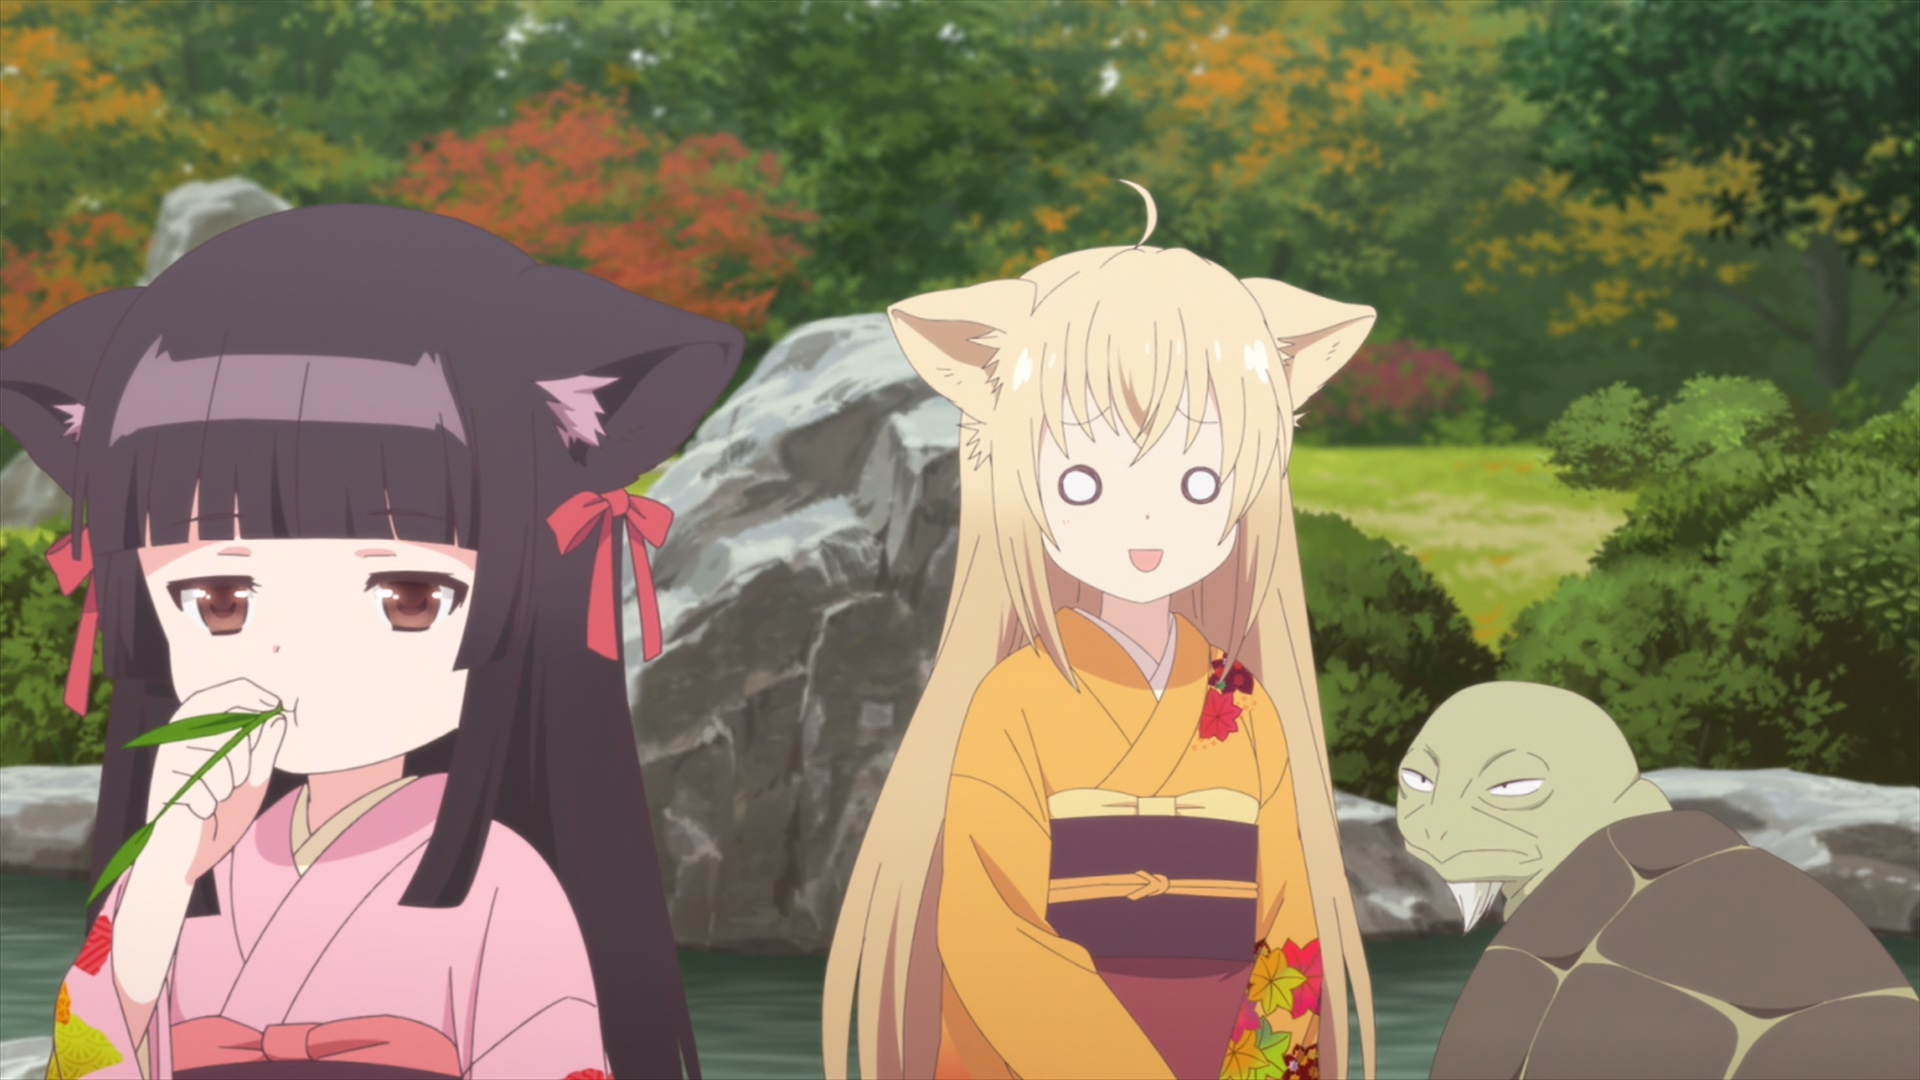其他: (1394, 682, 1920, 1080)
柚: (820, 179, 1378, 1080)
樱: (1, 202, 744, 1080)
